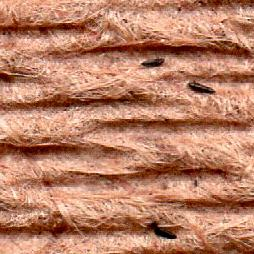egg: (149, 222, 176, 237), (189, 82, 214, 92), (142, 59, 164, 66)
